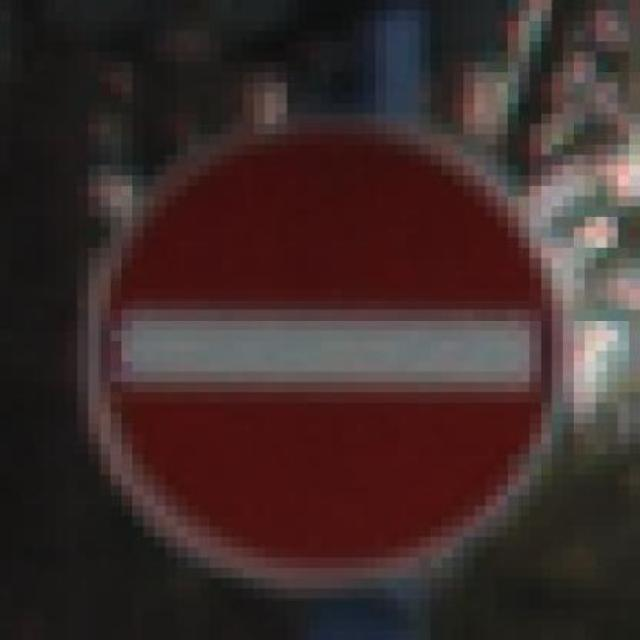B2: (83, 115, 557, 593)
